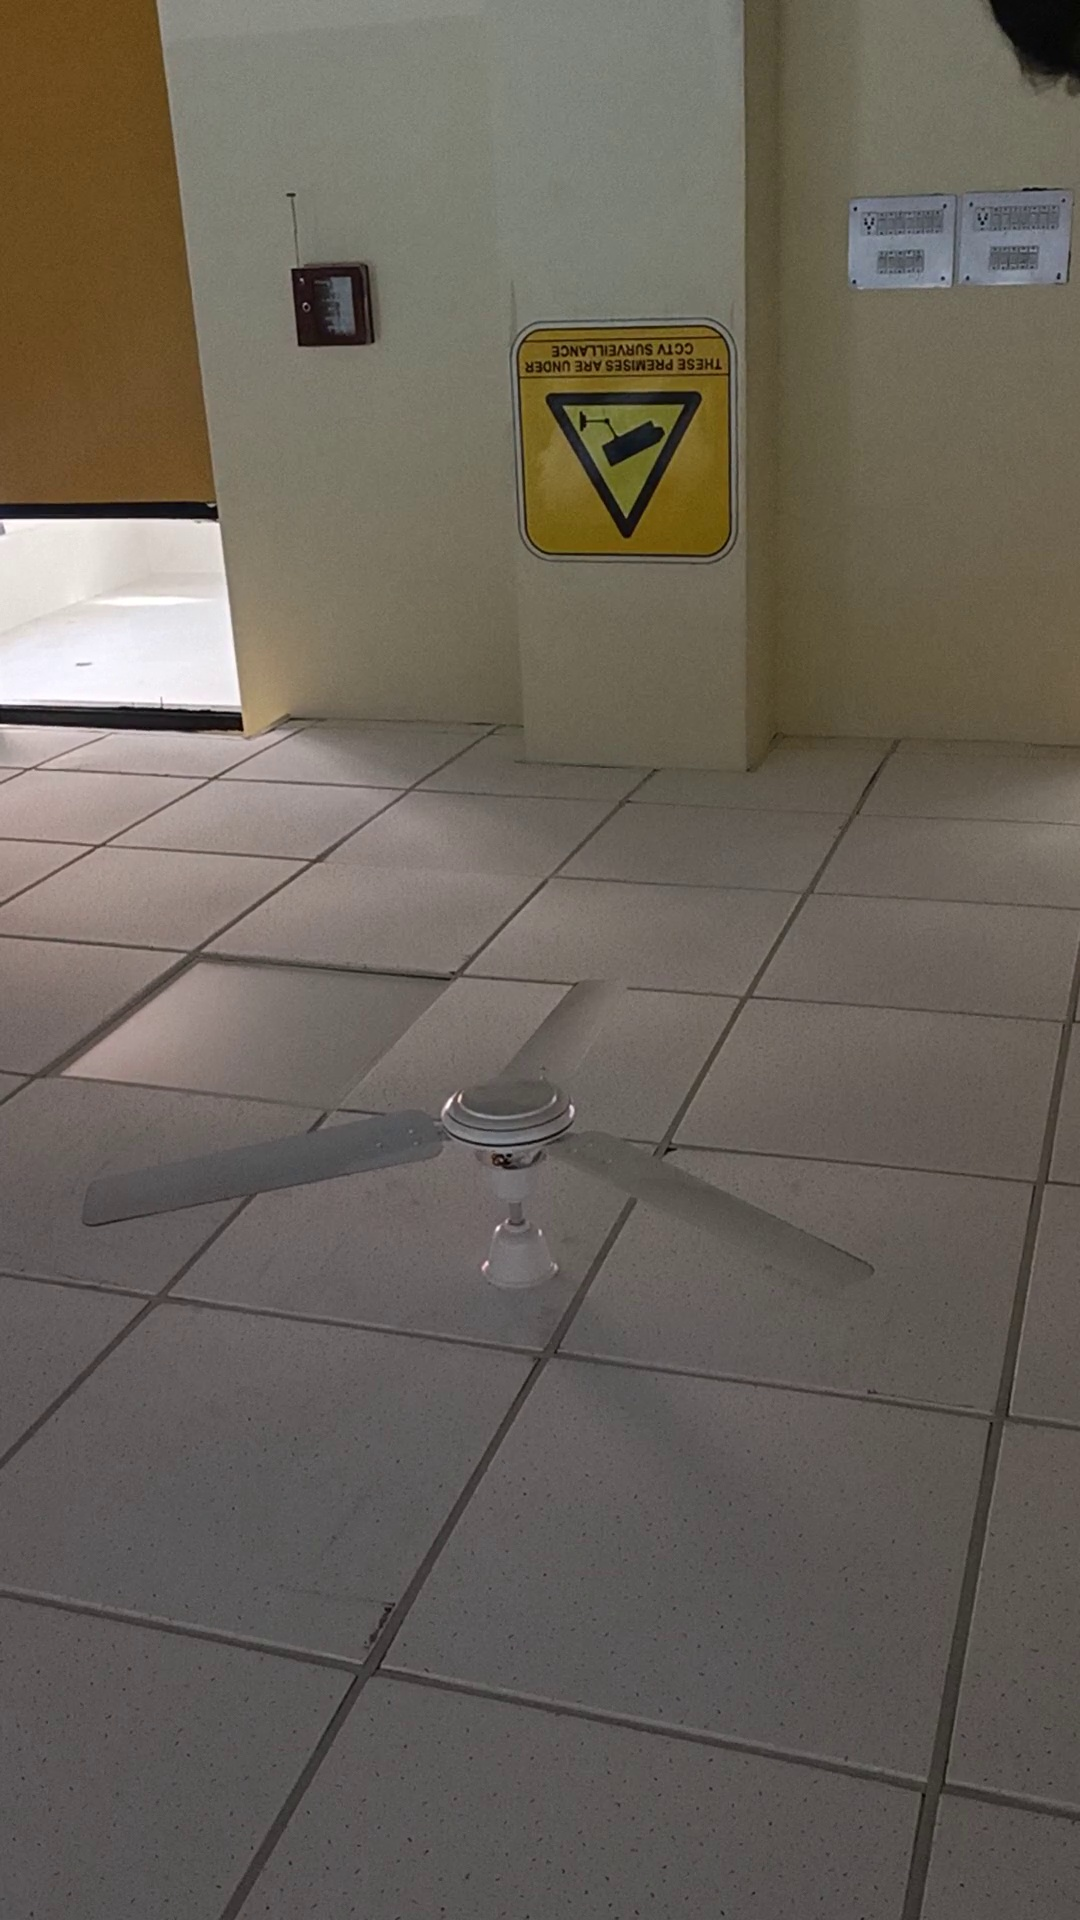fan: (53, 972, 698, 1337)
